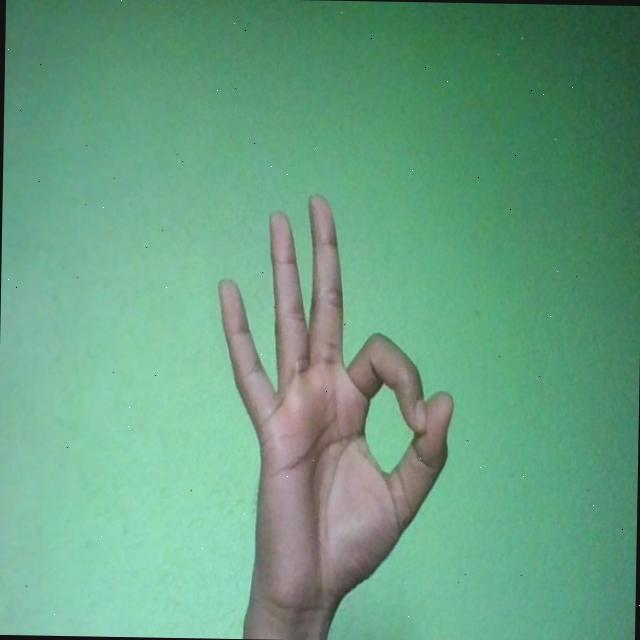Rock On: (210, 190, 457, 624)
